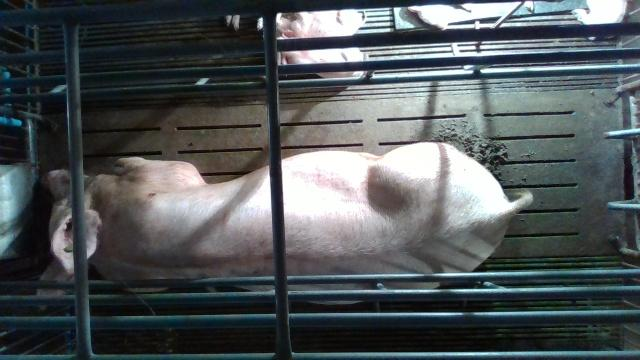piglet: (277, 35, 364, 78), (276, 9, 366, 36)
sow-sleep: (38, 143, 535, 303)
